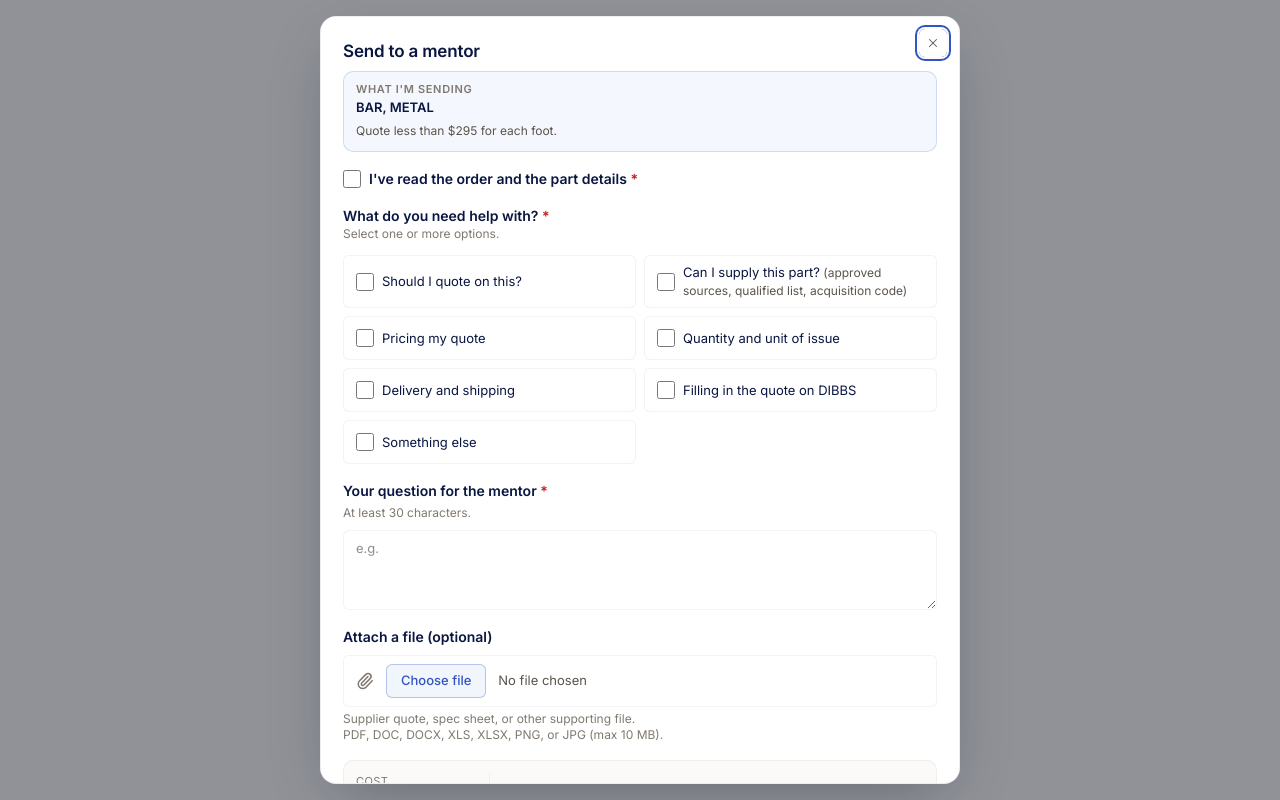
it: MentorSendModal — the form › keeps Send shut until every required answer is in
Click the checkbox labelled "I've read the order and the part details *" at (352, 179), box [343,170,361,188]
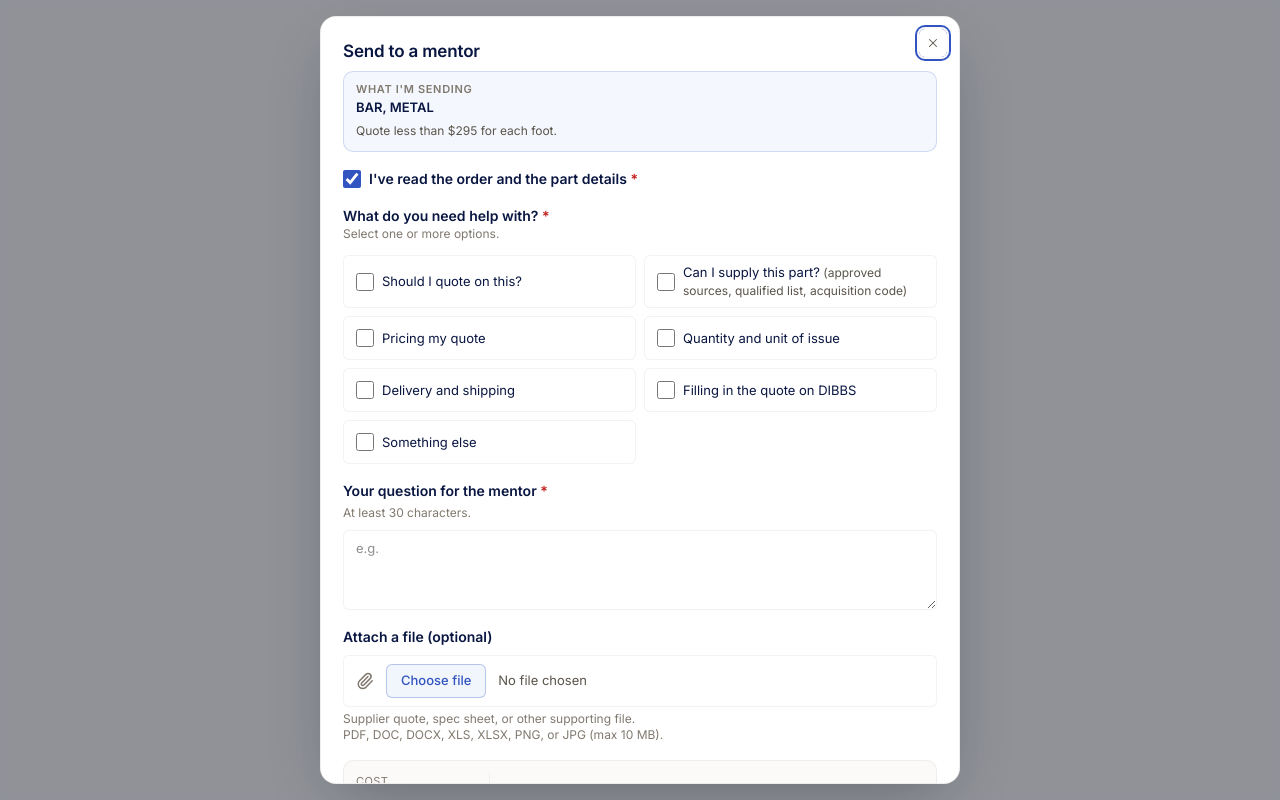
Click the checkbox labelled "Pricing my quote" at (365, 338), box [356,329,374,347]
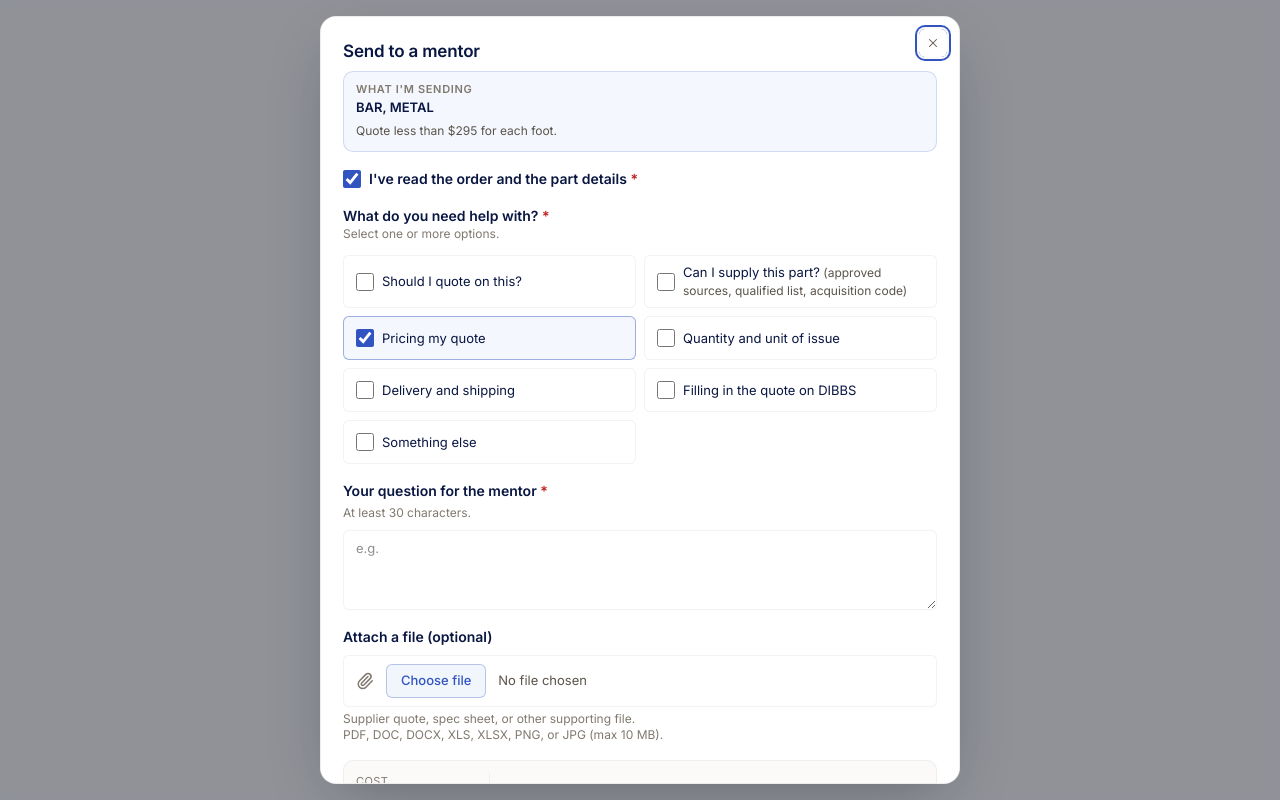
Type "too short" into the text box labelled "Your question for the mentor *" at (640, 570), box [343,530,937,610]
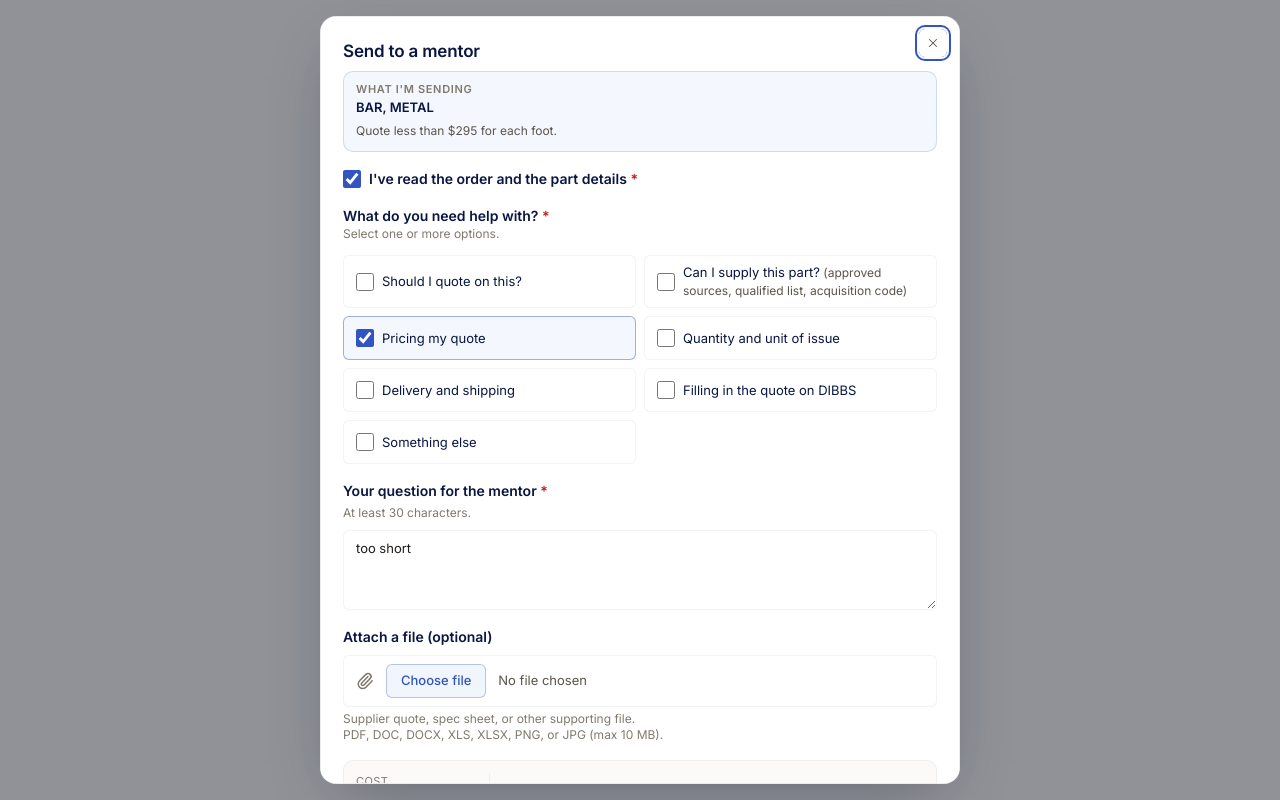
Replace the text in the text box labelled "Your question for the mentor *" with "I can get this part from a distributor. Can I still quote?" at (640, 570), box [343,530,937,610]
(page scrolled)
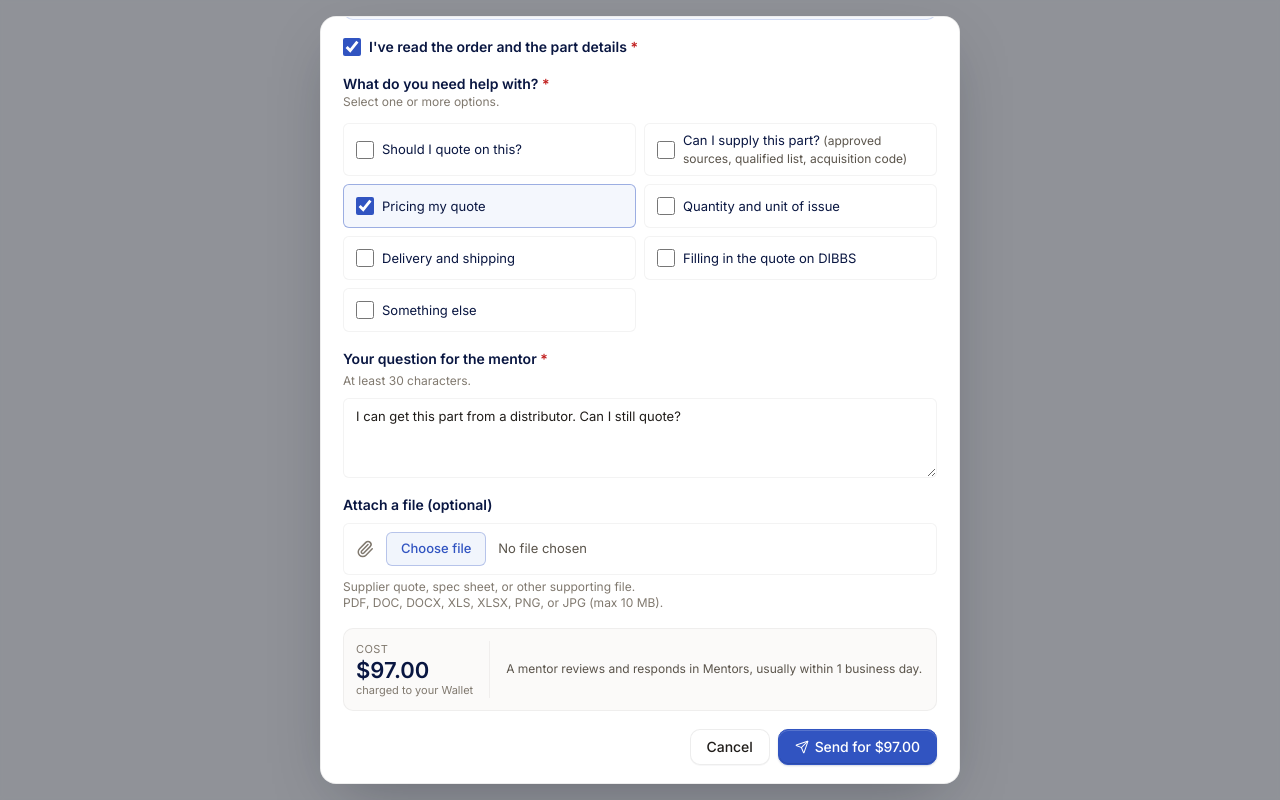
Check: the button "Send for $97.00" is enabled, box [778,729,937,765]
